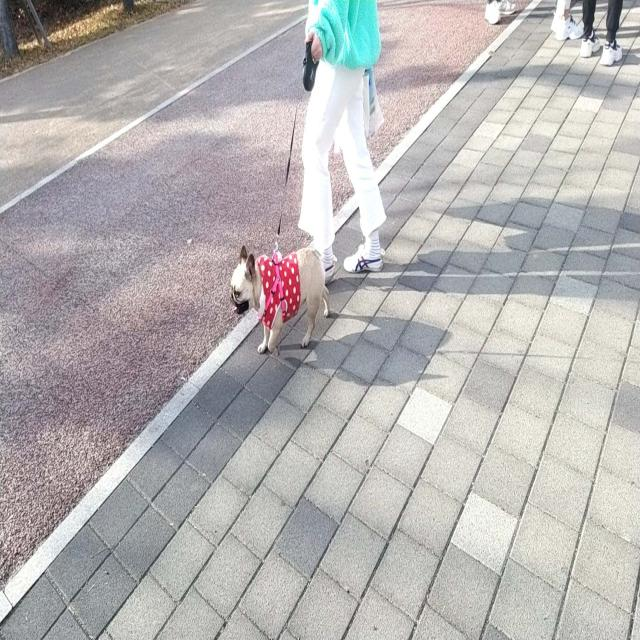Leashed_Dog: (230, 31, 334, 354)
